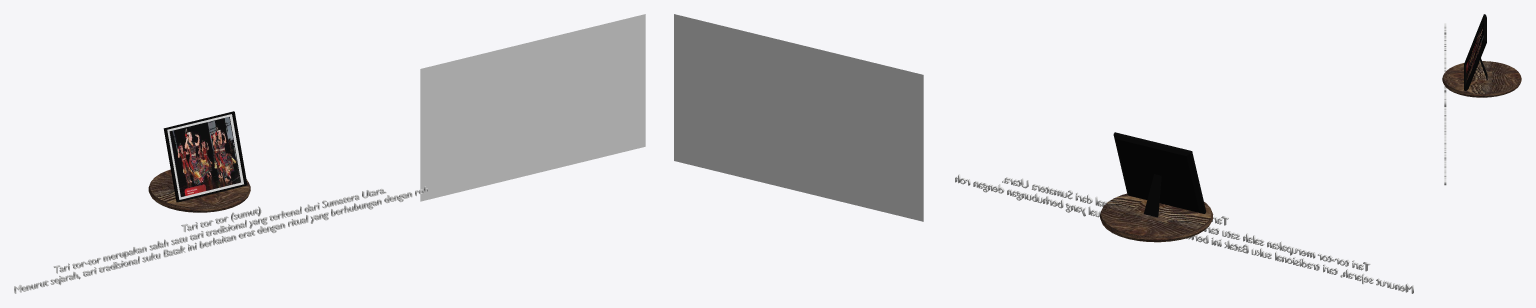
The model's file is 3. Tari Tor-tor (Sumatera Utara).fbx.
3 views of the same model, side by side, from view 1: azimuth 30°, elevation 25°; view 2: azimuth 150°, elevation 25°; view 3: azimuth 270°, elevation 25° (orthographic). The views are drawn at different scales.
Parts seen in each view (by area): view 1: Plane, Cube.037, Text; view 2: Plane, Cube.037, Text; view 3: Cube.037, Text.
Part boxes in pixels (bbox=[...]): Plane: bbox=[420, 14, 645, 201]; Cube.037: bbox=[148, 111, 250, 212]; Text: bbox=[14, 186, 428, 293]; Plane: bbox=[674, 14, 923, 221]; Cube.037: bbox=[1100, 132, 1213, 242]; Text: bbox=[955, 174, 1413, 293]; Cube.037: bbox=[1442, 14, 1521, 97]; Text: bbox=[1444, 23, 1446, 185].
Bounding box in the file's own units: 9213 × 1800 × 1260.
6 materials, 3 textured.
